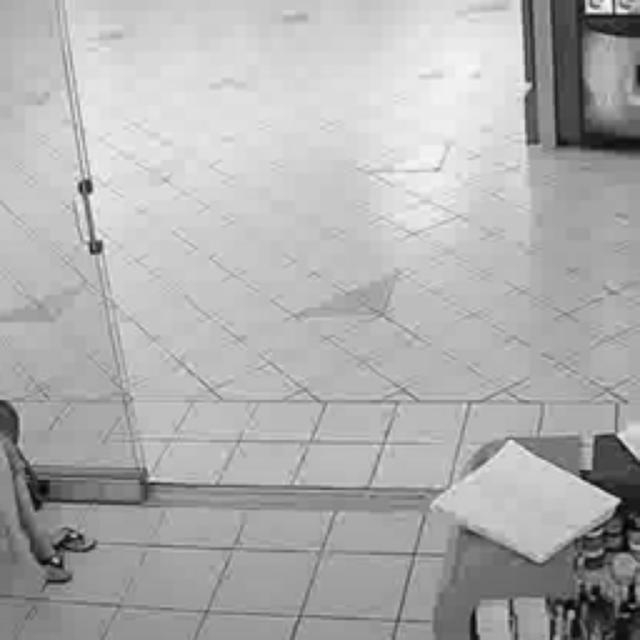Invader: (0, 409, 100, 595)
